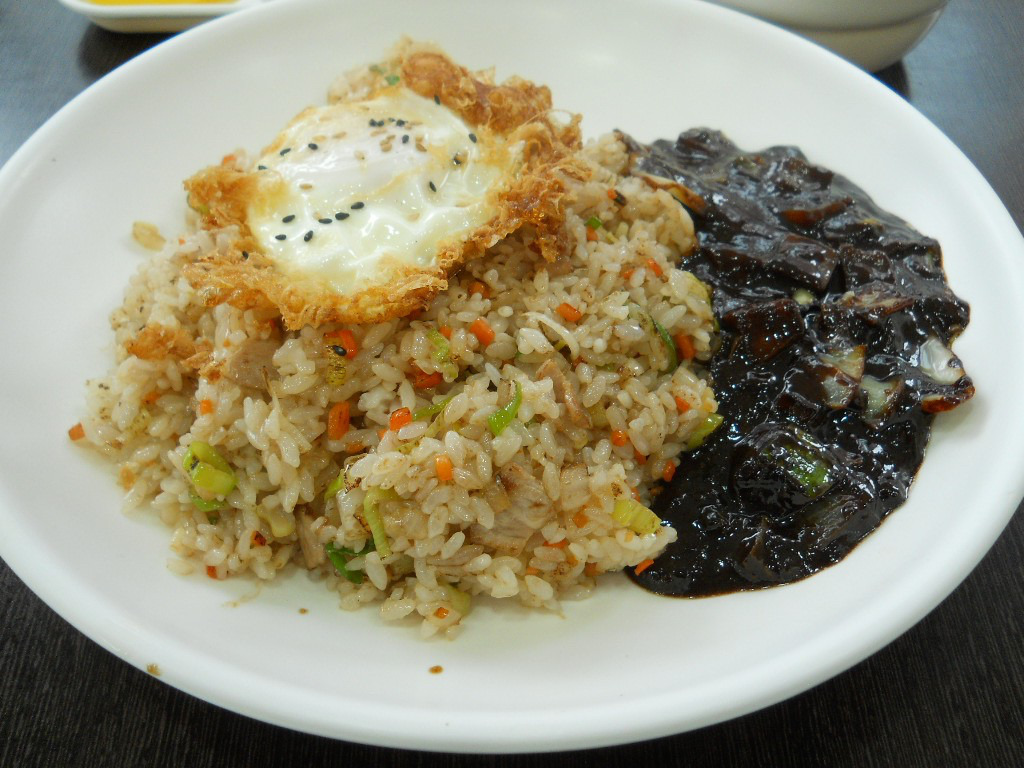gyelanhulai: (208, 58, 558, 328)
